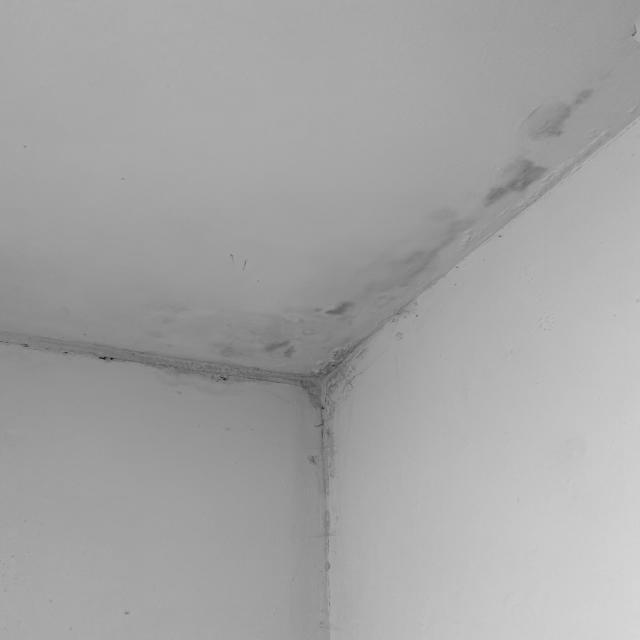stain marks: (28, 291, 388, 378), (287, 379, 362, 640), (510, 64, 620, 148), (392, 202, 480, 288), (468, 140, 560, 220), (336, 250, 396, 292), (217, 239, 261, 278)
